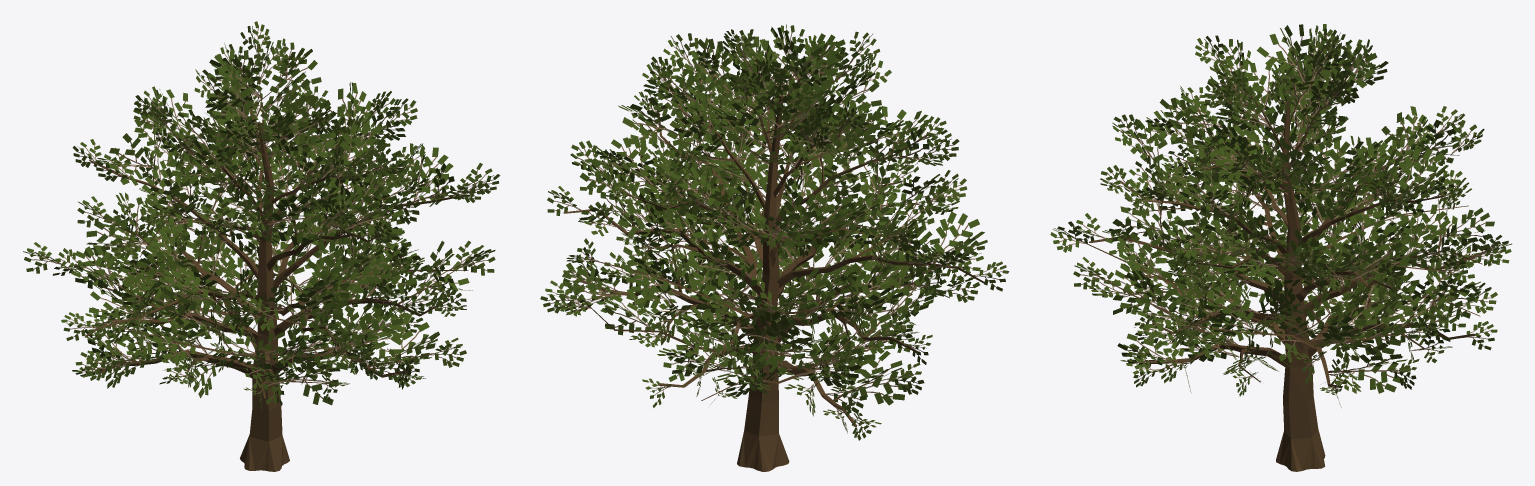
File: SM_tree_02.gltf
3 renders of one model, left to right at view 1: azimuth 30°, elevation 25°; view 2: azimuth 150°, elevation 25°; view 3: azimuth 270°, elevation 25°, orthographic. The views are drawn at different scales.
Parts seen in each view (by area): view 1: SM_tree_02; view 2: SM_tree_02; view 3: SM_tree_02.
Part boxes in pixels (x1,y1,x2,y2): SM_tree_02: [23, 21, 500, 471]; SM_tree_02: [540, 24, 1009, 471]; SM_tree_02: [1050, 24, 1511, 471].
Bounding box in the file's own units: 11.98 × 12.48 × 12.23.
2 materials, 1 textured.
